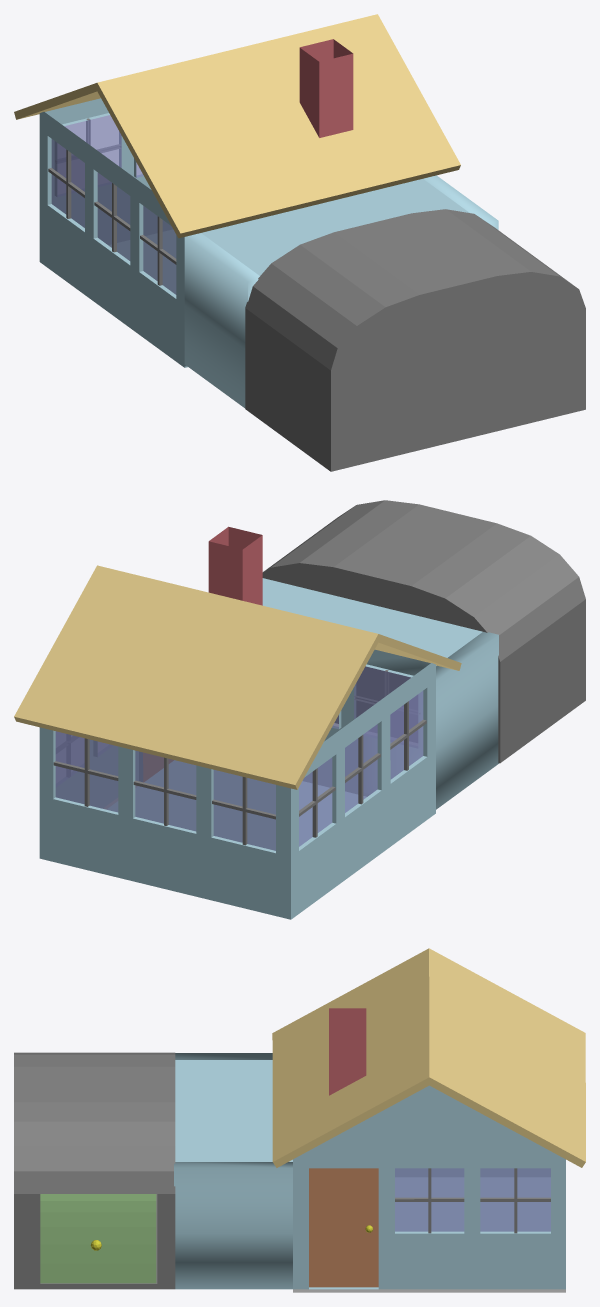
File: house.fbx
The picture shows the model from 3 angles, top to bottom: view 1: azimuth 30°, elevation 25°; view 2: azimuth 150°, elevation 25°; view 3: azimuth 270°, elevation 25°; orthographic projection. The views are drawn at different scales.
Parts seen in each view (by area): view 1: Cube.006, Roof, House, Cummny, Window Metals; view 2: House, Roof, Cube.006, Window Metals, Cummny; view 3: House, Roof, Cube.006, Cube.001, Cummny, Window Metals.
Boxes of the visible parts, bbox=[...] form: Cube.006: bbox=[245, 209, 585, 471]; Roof: bbox=[14, 14, 460, 238]; House: bbox=[39, 98, 498, 408]; Cummny: bbox=[299, 39, 353, 137]; Window Metals: bbox=[48, 118, 176, 285]; House: bbox=[39, 578, 499, 919]; Roof: bbox=[14, 565, 461, 789]; Cube.006: bbox=[262, 500, 585, 763]; Window Metals: bbox=[53, 670, 426, 845]; Cummny: bbox=[208, 526, 262, 605]; House: bbox=[174, 1053, 565, 1292]; Roof: bbox=[272, 948, 585, 1167]; Cube.006: bbox=[14, 1052, 175, 1289]; Cube.001: bbox=[40, 1194, 156, 1283]; Cummny: bbox=[329, 1008, 366, 1095]; Window Metals: bbox=[395, 1168, 550, 1233].
Size of the model in its own units: 392 by 339 by 734.
